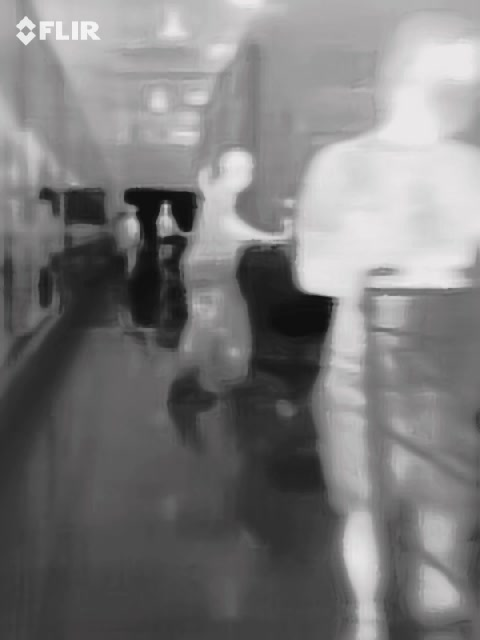head: (378, 13, 479, 136)
